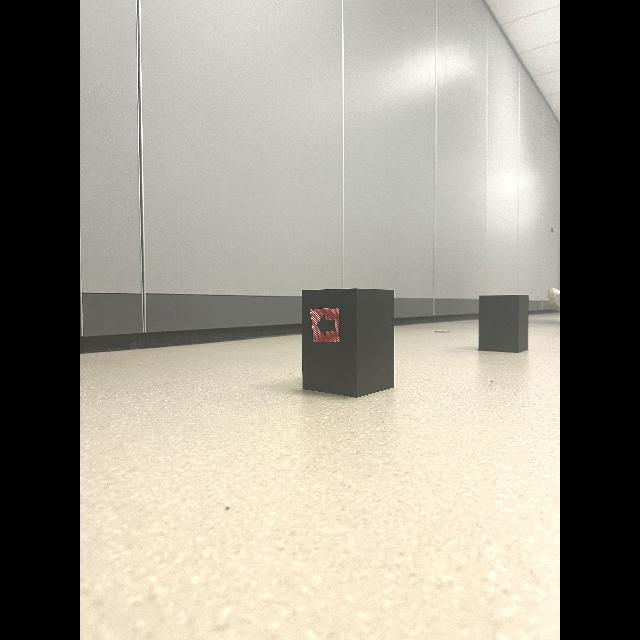LEFT: (316, 314, 335, 337)
